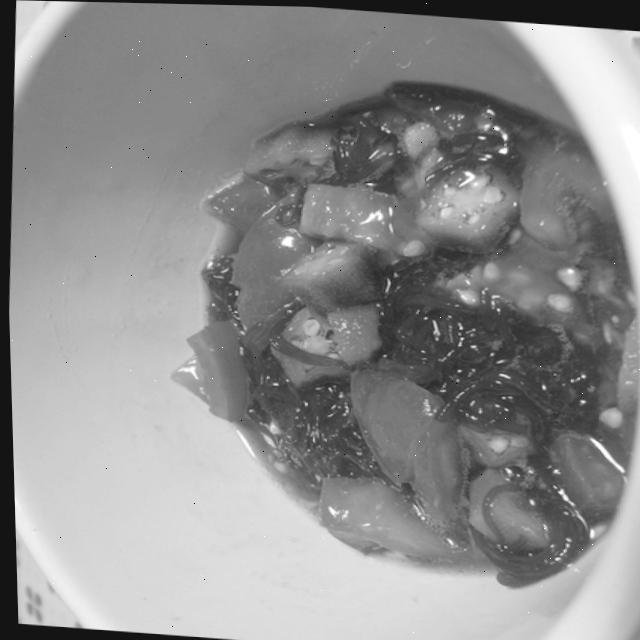蔬菜料理: (95, 59, 640, 595)
